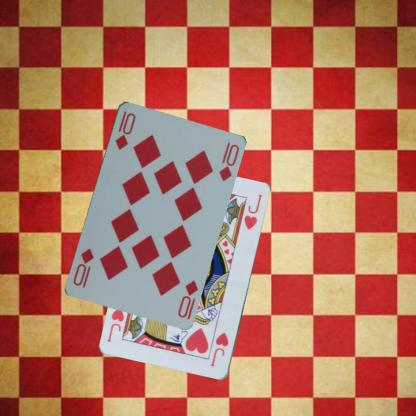10d: (174, 277, 200, 319), (112, 108, 137, 151)
Jh: (208, 330, 230, 368)
